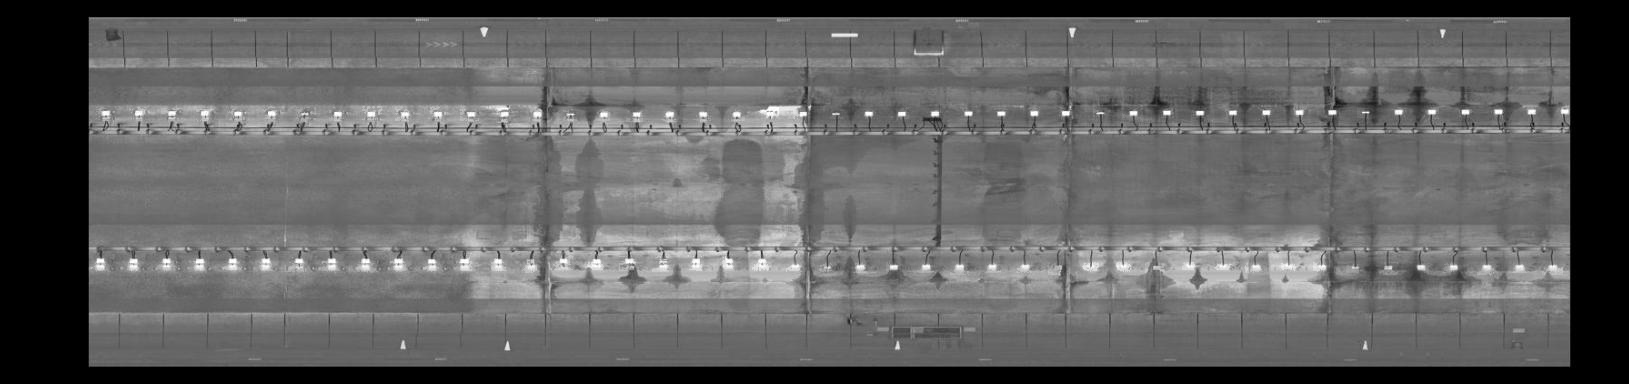light: (357, 254, 377, 274), (285, 255, 306, 272), (549, 256, 575, 270), (322, 256, 343, 273), (362, 105, 382, 120), (390, 255, 408, 272), (1542, 260, 1563, 275), (1191, 106, 1209, 121), (1048, 260, 1068, 275), (759, 107, 779, 121), (256, 256, 275, 271), (1378, 262, 1398, 275), (488, 257, 509, 271), (529, 107, 548, 121), (950, 262, 969, 275), (222, 256, 242, 270), (626, 107, 643, 122), (652, 256, 669, 272), (96, 107, 116, 119), (422, 258, 439, 273), (1113, 260, 1132, 273), (587, 257, 607, 270), (296, 107, 316, 119), (124, 258, 143, 271), (1422, 105, 1439, 119), (1477, 260, 1494, 275), (619, 256, 636, 271), (455, 257, 472, 272), (751, 258, 769, 272), (520, 259, 538, 273), (161, 108, 182, 119), (1443, 260, 1462, 273), (1410, 263, 1428, 275), (460, 109, 479, 121), (395, 109, 413, 121), (196, 109, 215, 121), (1257, 105, 1272, 120), (688, 255, 702, 271), (594, 107, 610, 121), (497, 108, 511, 124), (329, 107, 345, 121), (1145, 262, 1165, 273), (1323, 105, 1339, 118), (1290, 106, 1307, 119), (728, 108, 745, 121), (91, 257, 108, 271), (191, 257, 208, 271), (1357, 106, 1374, 118), (1058, 107, 1075, 119), (1245, 260, 1262, 273), (984, 260, 1002, 273), (891, 107, 909, 119), (693, 109, 711, 121), (428, 107, 446, 119), (155, 256, 176, 267), (1080, 262, 1099, 273), (850, 262, 869, 273), (228, 109, 246, 120), (660, 110, 676, 122), (917, 262, 935, 273), (1512, 260, 1527, 273), (1346, 260, 1362, 273), (1122, 108, 1141, 118), (264, 107, 279, 119), (130, 107, 145, 119), (1491, 106, 1504, 119), (1016, 260, 1031, 273), (721, 256, 736, 269), (563, 109, 578, 121), (1523, 106, 1539, 117), (1225, 108, 1240, 119), (1158, 108, 1175, 118), (960, 107, 977, 117), (1027, 107, 1041, 119), (886, 262, 900, 274), (1391, 106, 1406, 117), (1214, 260, 1232, 270), (1313, 262, 1329, 272), (1281, 260, 1297, 271), (993, 108, 1009, 118), (1182, 259, 1198, 270), (861, 110, 878, 119), (793, 110, 809, 119), (1459, 106, 1472, 117), (786, 262, 801, 272), (819, 263, 834, 272), (1555, 106, 1569, 116), (928, 109, 943, 117), (829, 110, 843, 119), (1093, 109, 1107, 117)
